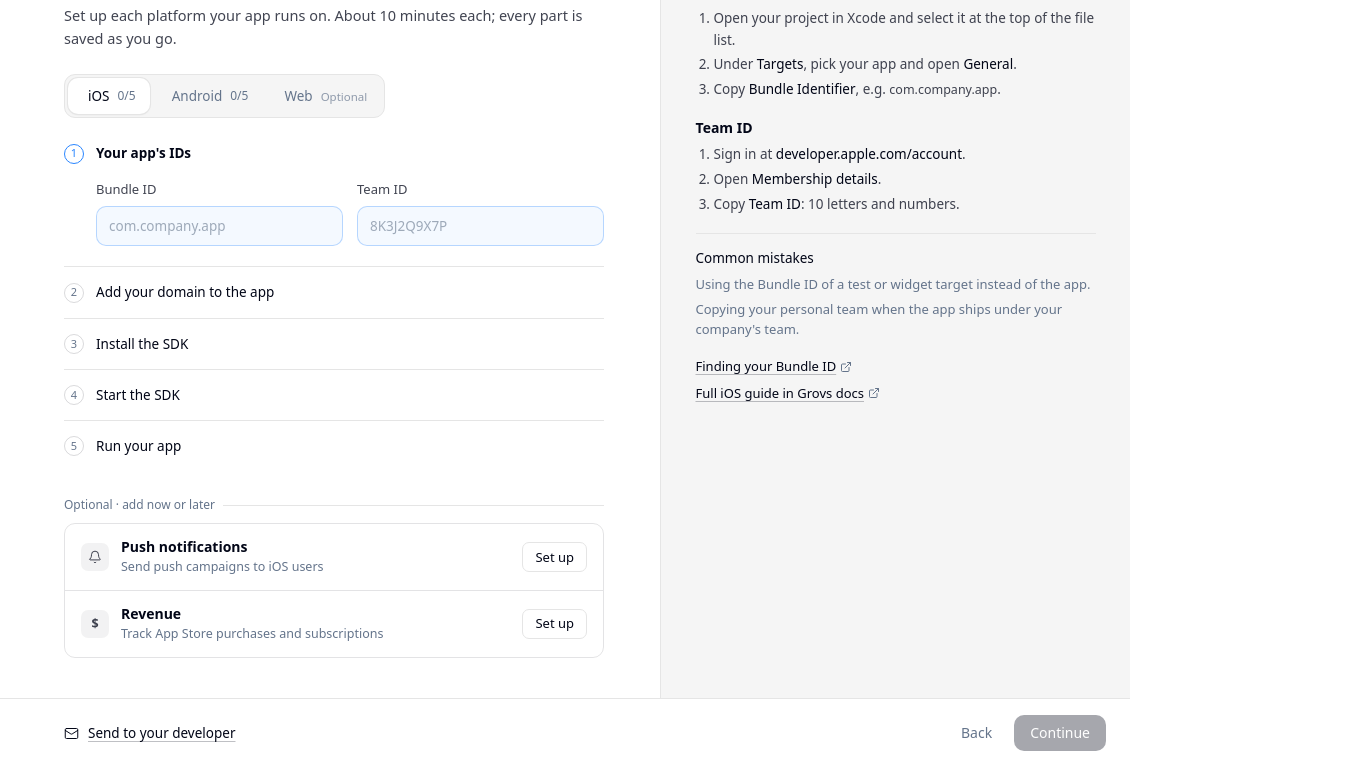
Test case: ConnectStep › invites a developer and hands over a link back to this step
(page scrolled)
Click the button "Send to your developer".
click(150, 733)  # box 64,723 -> 236,744
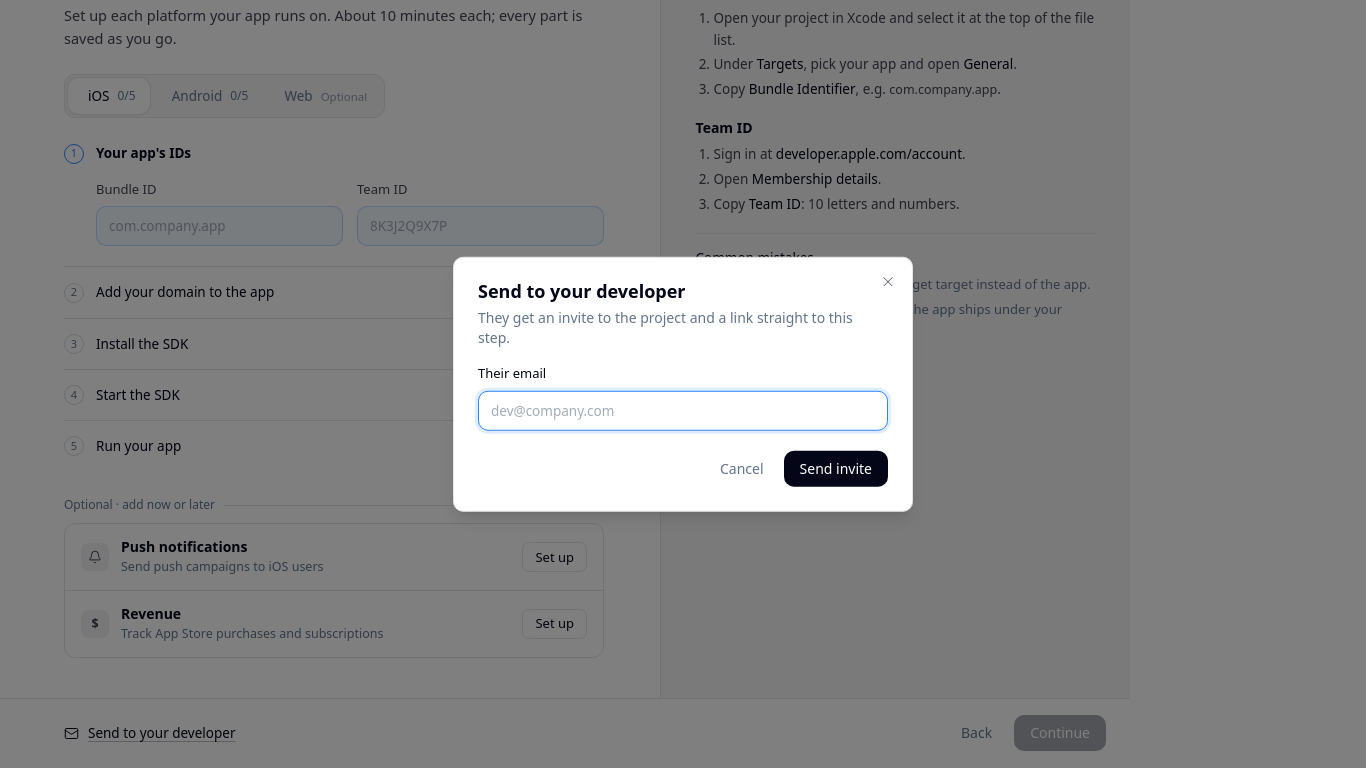
Type "dev@segments.io" into the field labelled "Their email".
click(684, 410); type("dev@segments.io")  # box 491,391 -> 877,429
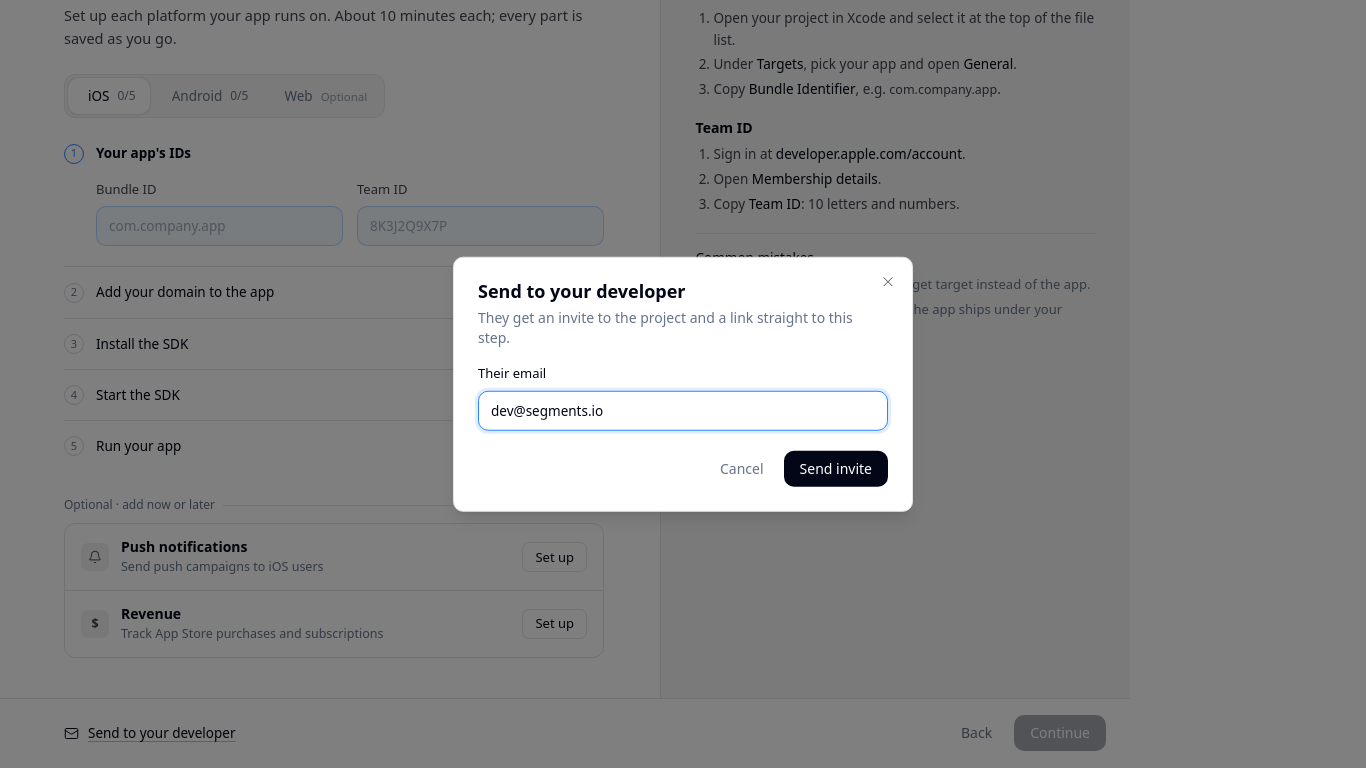
Click the button "Send invite".
click(836, 468)  # box 784,450 -> 888,486
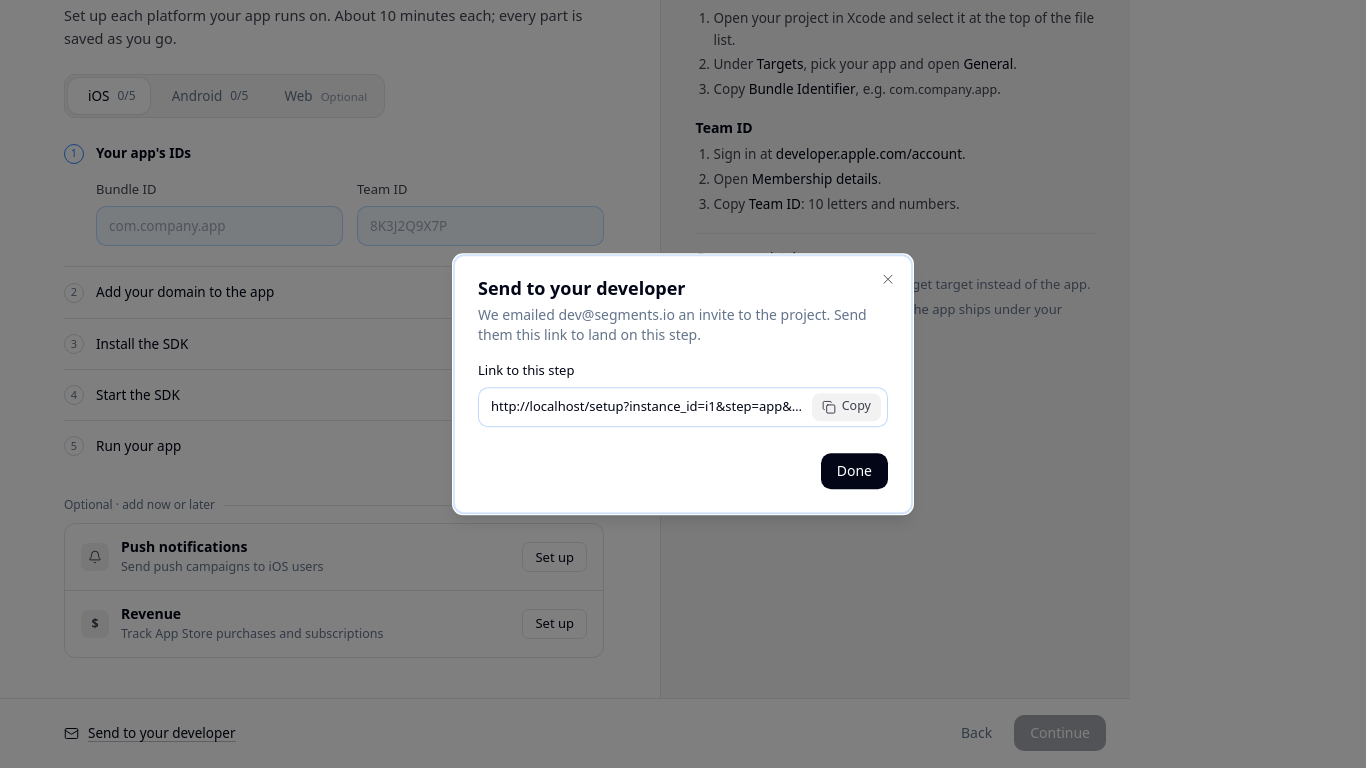
Now the text "http://localhost/setup?instance_id=i1&step=app&platform=ios" is shown, box 491,397 -> 804,416
